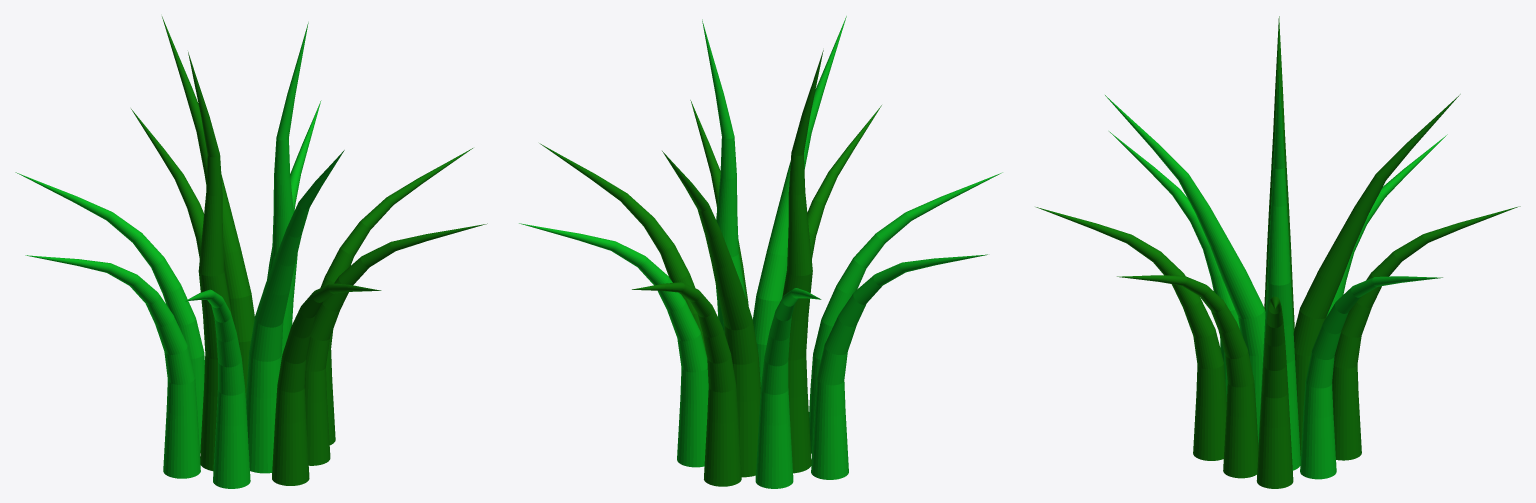
3 renders of one model, left to right at view 1: azimuth 30°, elevation 25°; view 2: azimuth 150°, elevation 25°; view 3: azimuth 270°, elevation 25°, orthographic. The views are drawn at different scales.
Visible parts, largest first — view 1: 円錐.007; view 2: 円錐.007; view 3: 円錐.007.
Part boxes in pixels (x1,y1,x2,y2): 円錐.007: [15, 16, 487, 488]; 円錐.007: [519, 16, 1002, 488]; 円錐.007: [1036, 16, 1520, 488].
Size of the model in its own units: 42.93 by 38.53 by 41.5.
